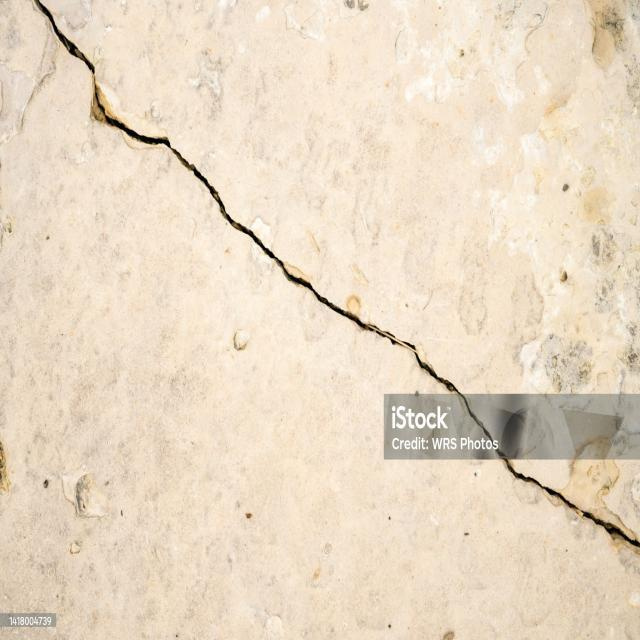Crack: (27, 0, 636, 557)
